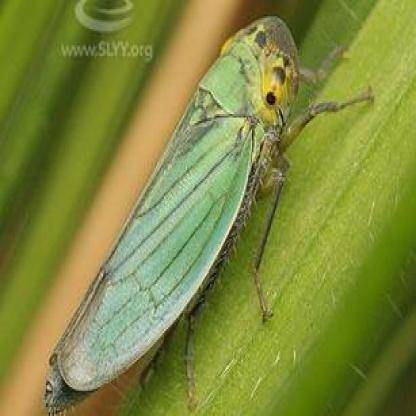Green-Leafhopper: (39, 7, 378, 416)
